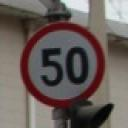speed_limit_50: (20, 21, 106, 109)
